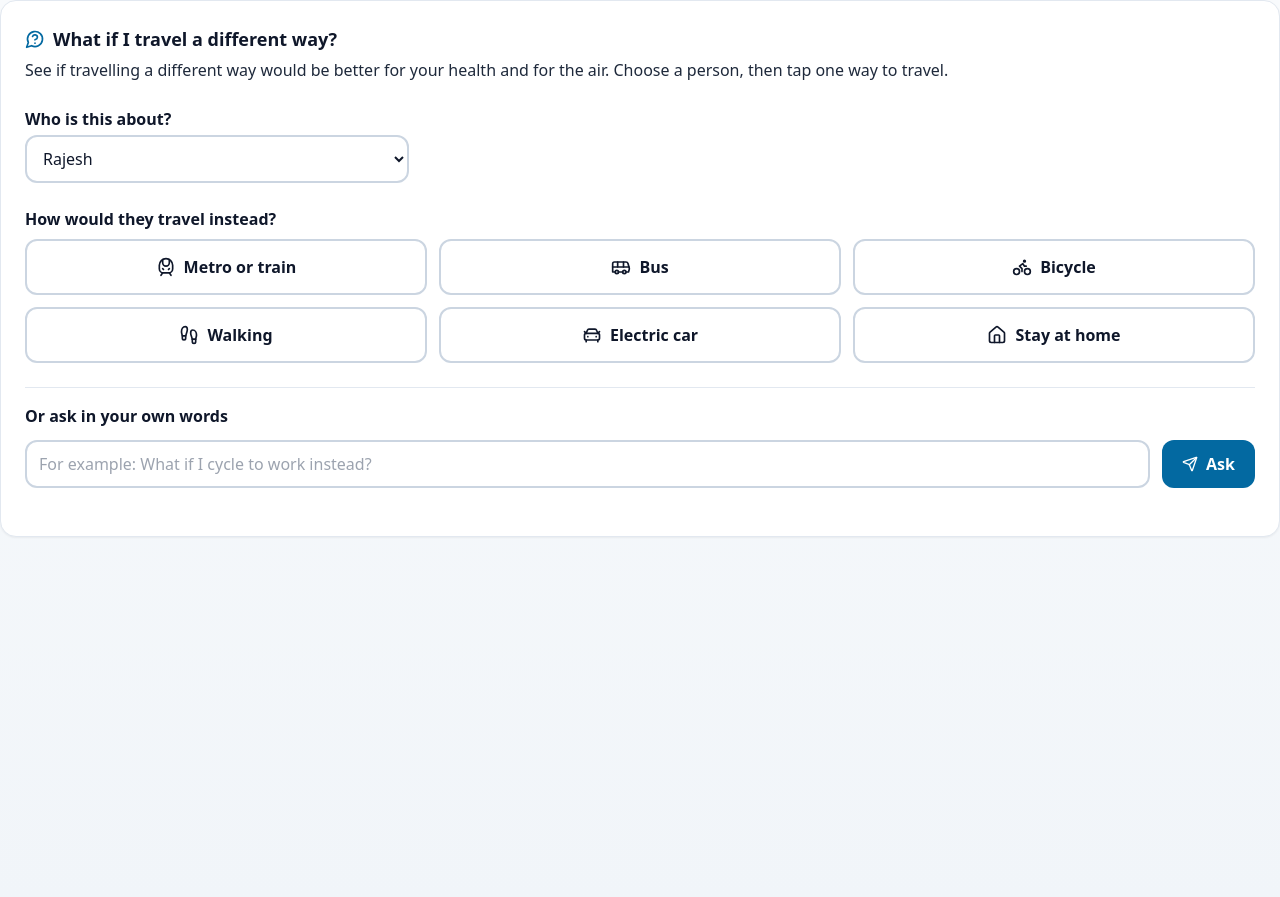
Test: WhatIfPanel › shows a same verdict in words
Click the button "Metro or train" at (226, 267), box x1=25 y1=239 x2=427 y2=295
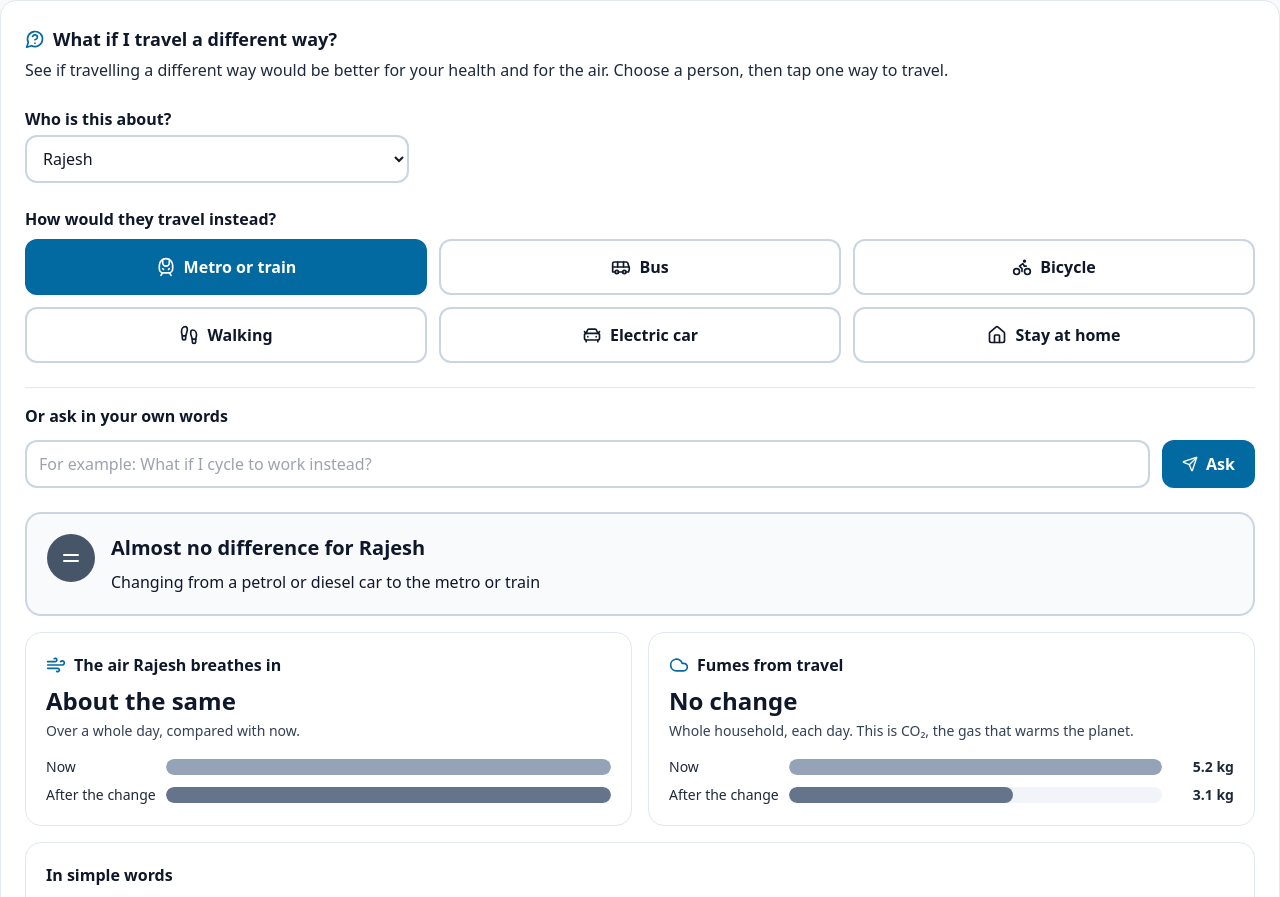
Check: the heading "Almost no difference for Rajesh" is shown, box x1=111 y1=534 x2=425 y2=561
